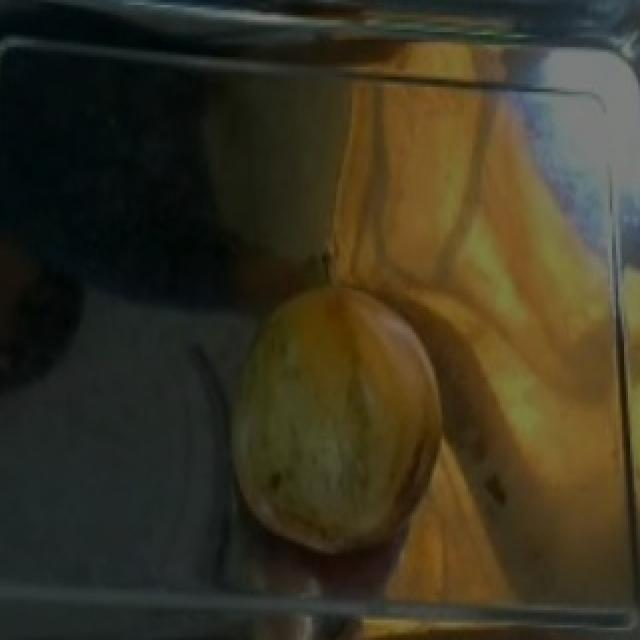fruit: (202, 251, 464, 491)
